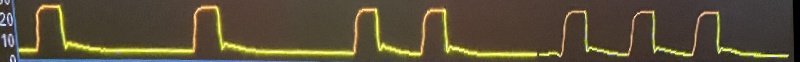normal_pressure: (11, 0, 792, 62)
